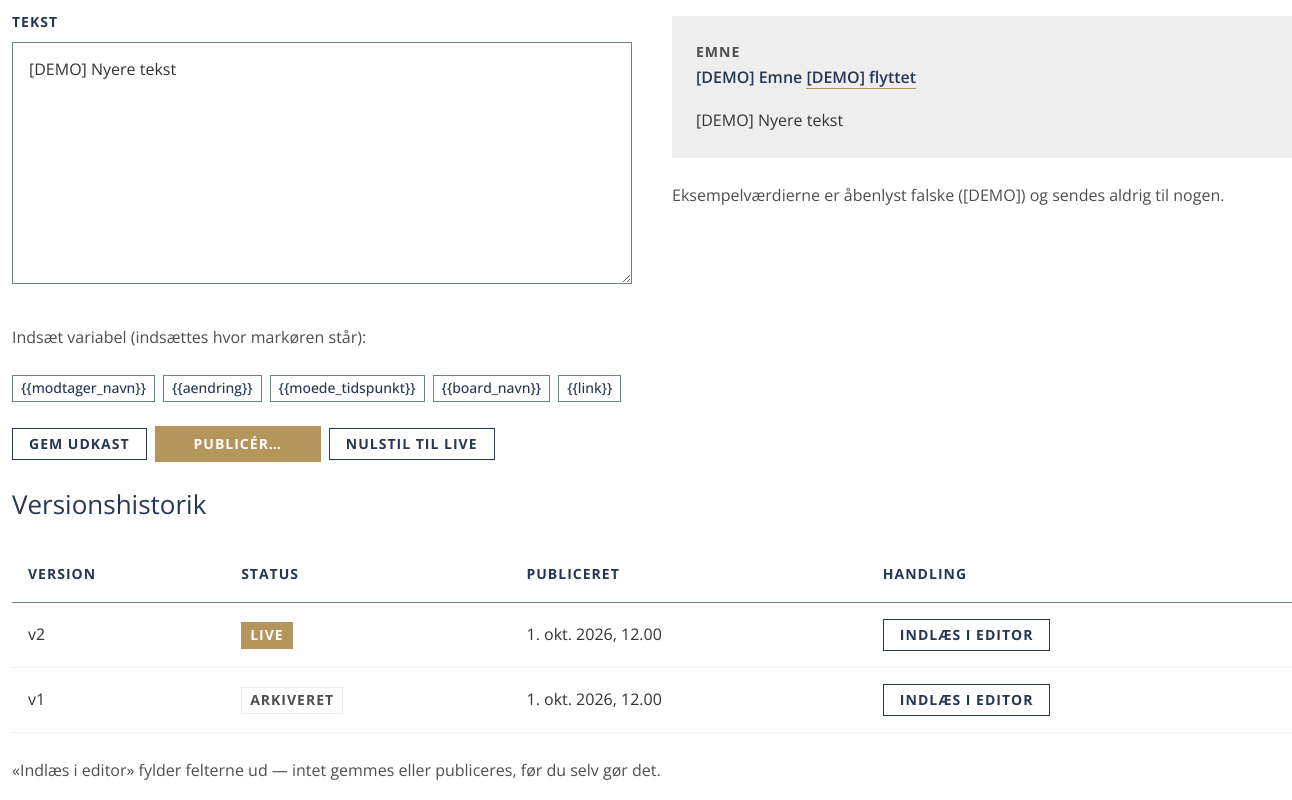
it: TemplateEditor — handlinger › 'Indlæs i editor' fylder felterne ud fra en tidligere version uden at gemme
The image size is (1292, 800).
(page scrolled)
Click the button "Indlæs i editor" in the row of "Arkiveret" at (967, 700), box left=883, top=684, right=1050, bottom=716
(page scrolled)
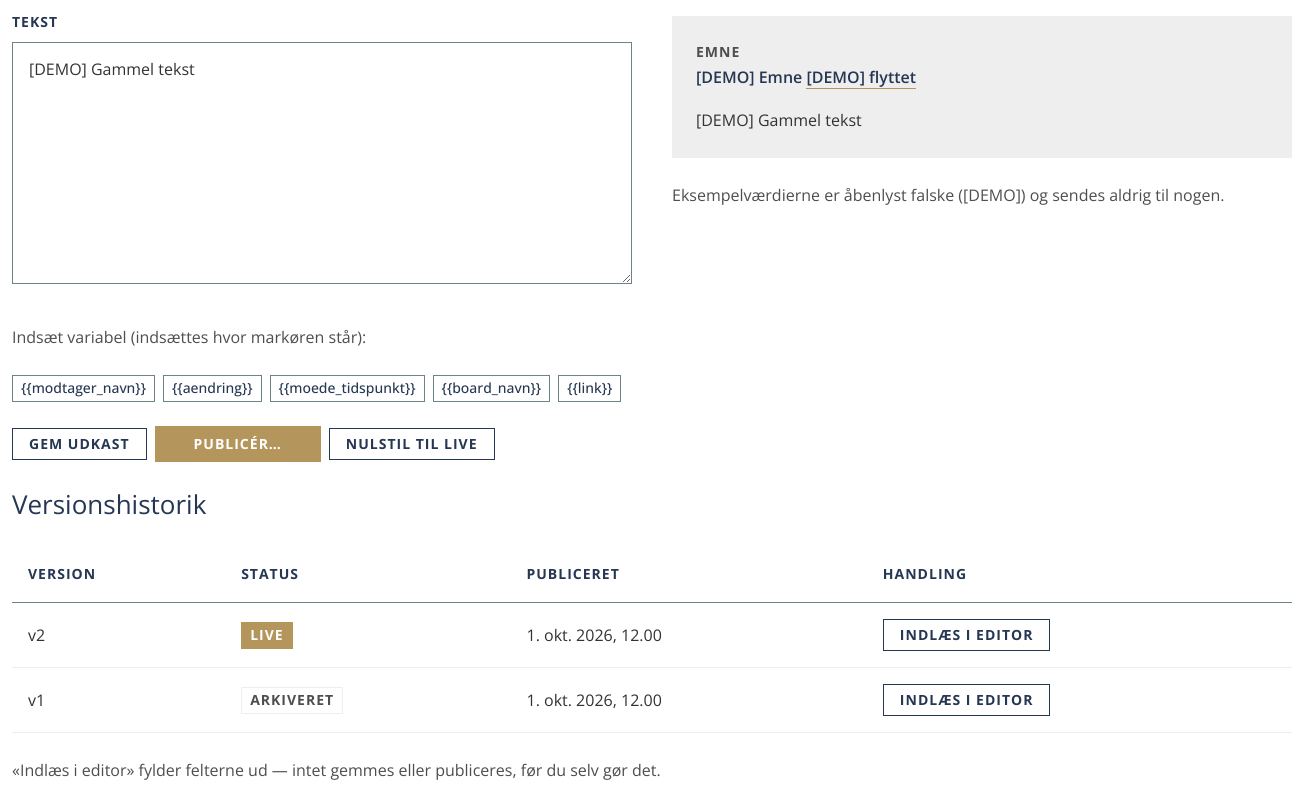
Expected: the text box labelled "Tekst" holds "[DEMO] Gammel tekst", left=12, top=42, right=632, bottom=284
